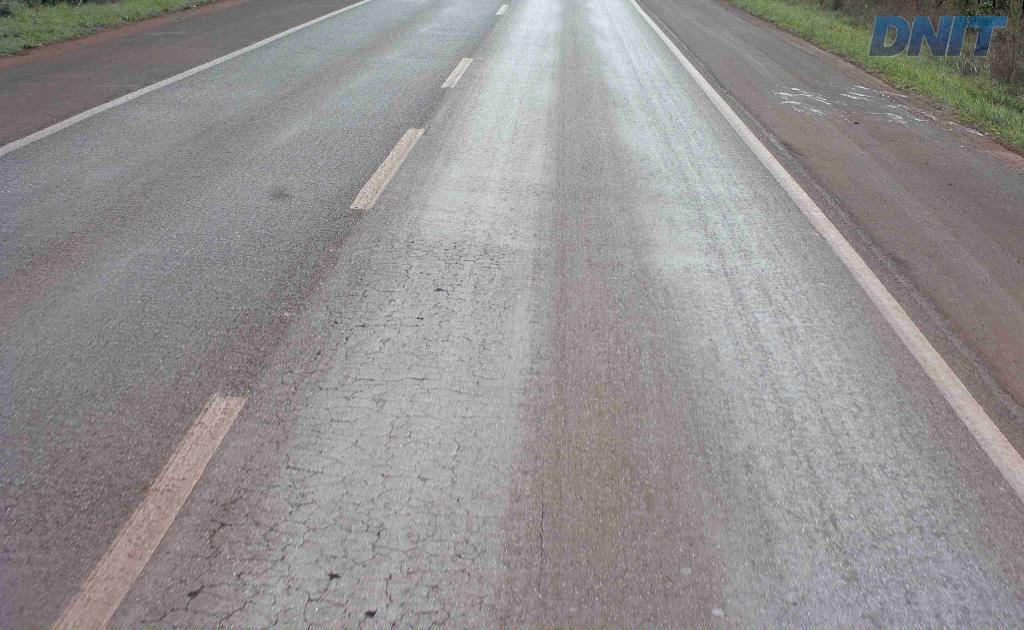crack: (269, 405, 358, 477), (335, 367, 388, 403)
